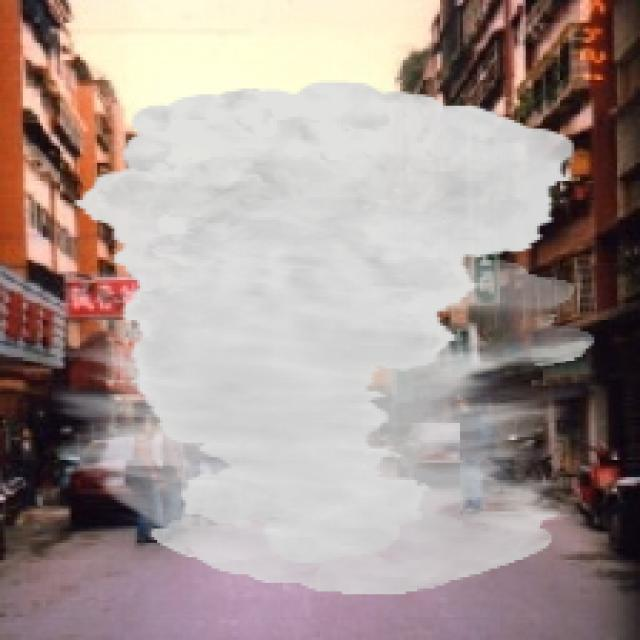Smoke: (51, 80, 594, 594)
